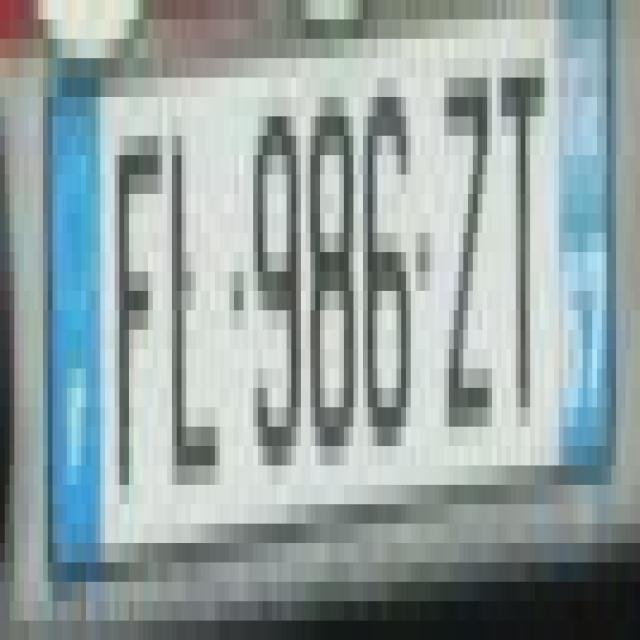EU: (42, 0, 619, 584)
France: (52, 63, 103, 570)
